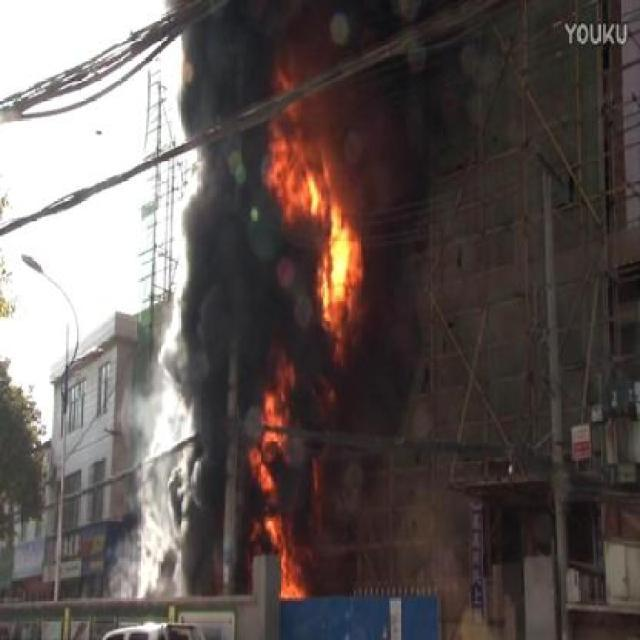Fire: (266, 57, 370, 599)
Smoke: (136, 35, 242, 595)
